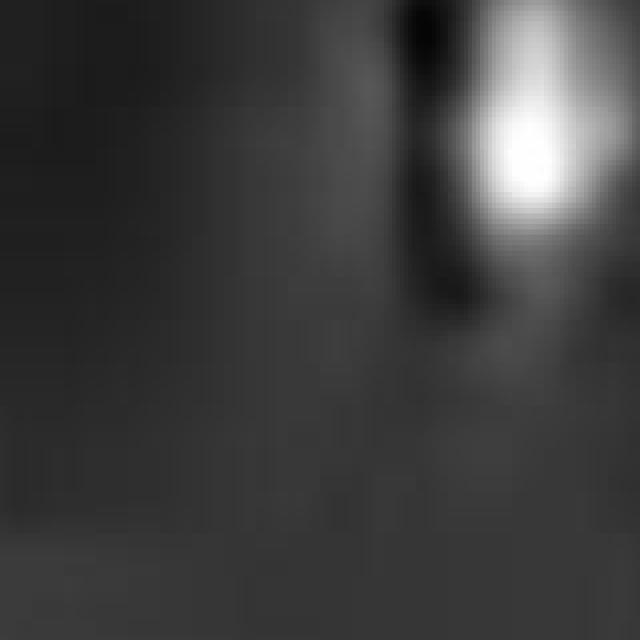person: (421, 1, 640, 337)
